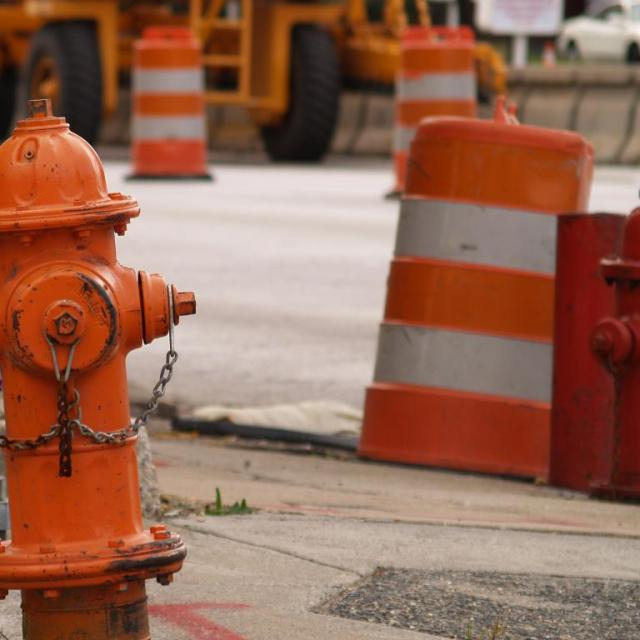fire_hydrant: (2, 96, 199, 640)
